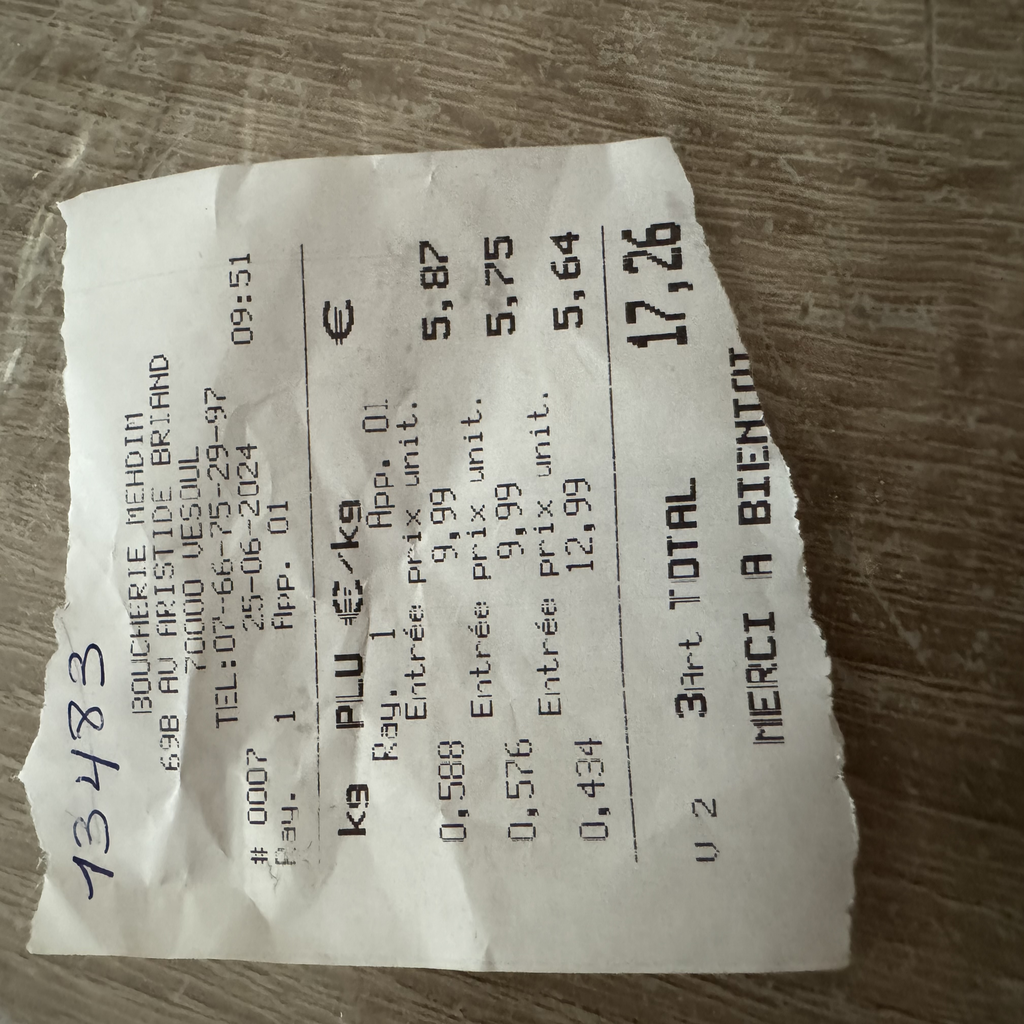recipt: (21, 134, 856, 974)
